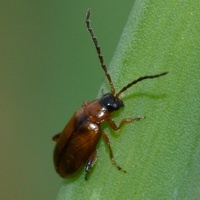insect: (53, 9, 167, 176)
